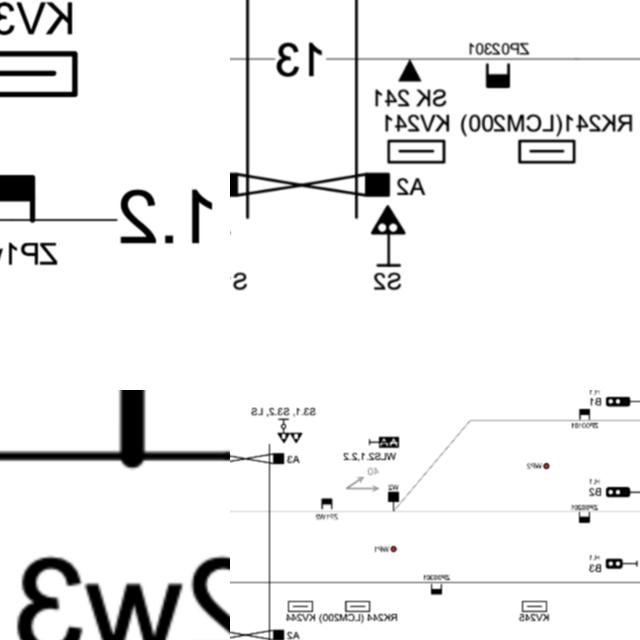radzaehler: (80, 390, 230, 490), (0, 166, 48, 238), (480, 56, 516, 94), (574, 404, 594, 426), (576, 509, 594, 527), (428, 580, 444, 598), (318, 496, 336, 512)
tracknumber: (107, 168, 230, 272), (267, 39, 333, 81)
weiche: (383, 488, 402, 518)
